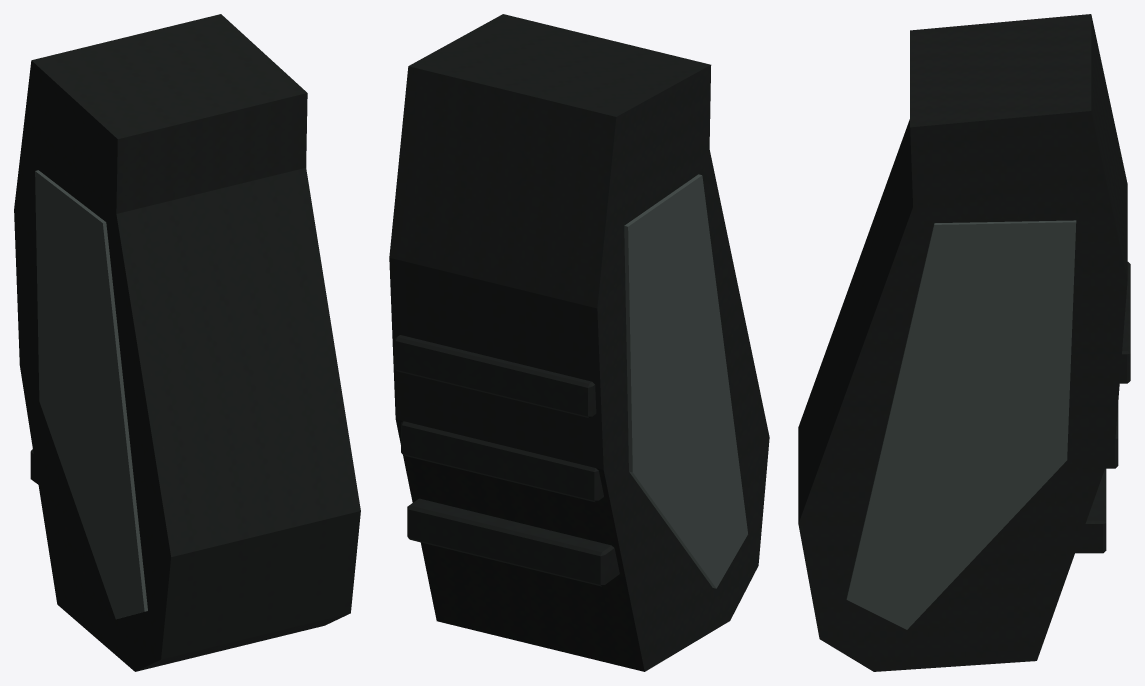
The model's file is m9_rubber.glb.
3 renders of one model, left to right at view 1: azimuth 30°, elevation 25°; view 2: azimuth 150°, elevation 25°; view 3: azimuth 270°, elevation 25°, orthographic. The views are drawn at different scales.
Visible parts, largest first — view 1: m9_rubber_item_profile, m9_rubber_item_profile.001, m9_rubber_molded_panel; view 2: m9_rubber_item_profile, m9_rubber_item_profile.001, m9_rubber_molded_panel; view 3: m9_rubber_item_profile, m9_rubber_molded_panel, m9_rubber_item_profile.001.
Boxes of the visible parts, x1,y1,x2,y2 form: m9_rubber_item_profile: (16,38,354,668); m9_rubber_item_profile.001: (14,14,360,671); m9_rubber_molded_panel: (35,170,147,619); m9_rubber_item_profile: (394,18,766,664); m9_rubber_item_profile.001: (389,14,769,671); m9_rubber_molded_panel: (624,174,747,588); m9_rubber_item_profile: (798,20,1130,658); m9_rubber_molded_panel: (846,220,1076,629); m9_rubber_item_profile.001: (798,14,1127,671).
Bounding box in the file's own units: 0.0788 × 0.205 × 0.11.
2 materials, 1 textured.
